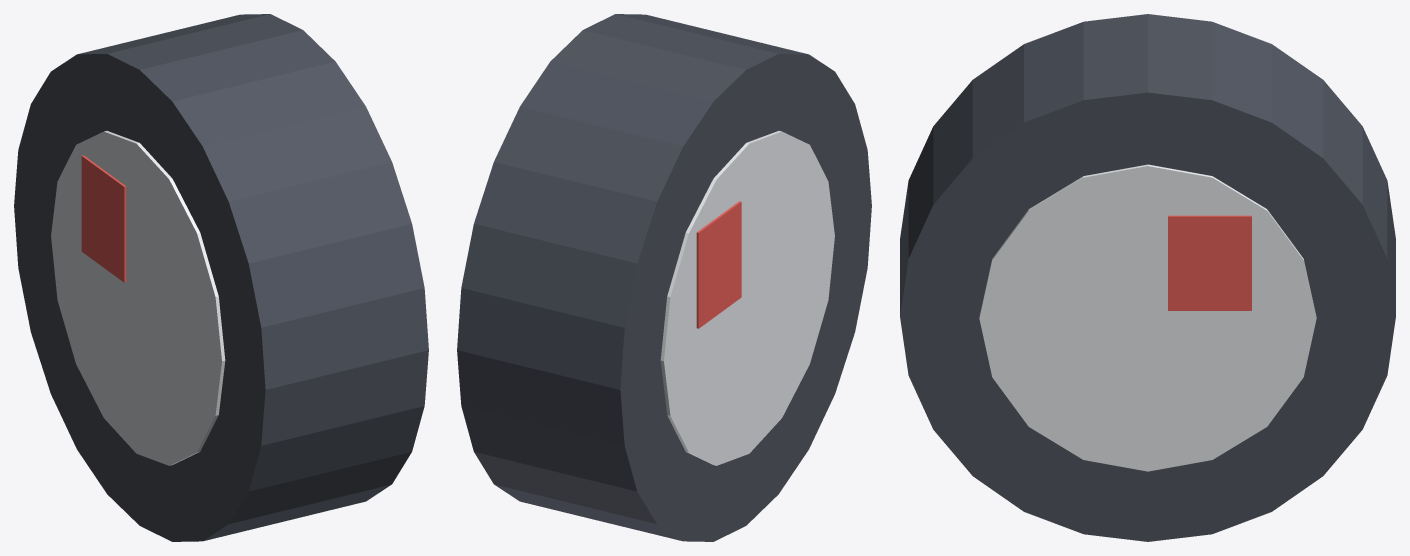
The model's file is prop_wheel.glb.
3 views of the same model, side by side, from view 1: azimuth 30°, elevation 25°; view 2: azimuth 150°, elevation 25°; view 3: azimuth 270°, elevation 25° (orthographic).
Parts seen in each view (by area): view 1: prop_wheel; view 2: prop_wheel; view 3: prop_wheel.
Boxes of the visible parts, x1=… form: prop_wheel: x1=14, y1=14, x2=428, y2=541; prop_wheel: x1=457, y1=14, x2=871, y2=541; prop_wheel: x1=900, y1=14, x2=1395, y2=541.
Size of the model in its own units: 0.8 by 2 by 2.
